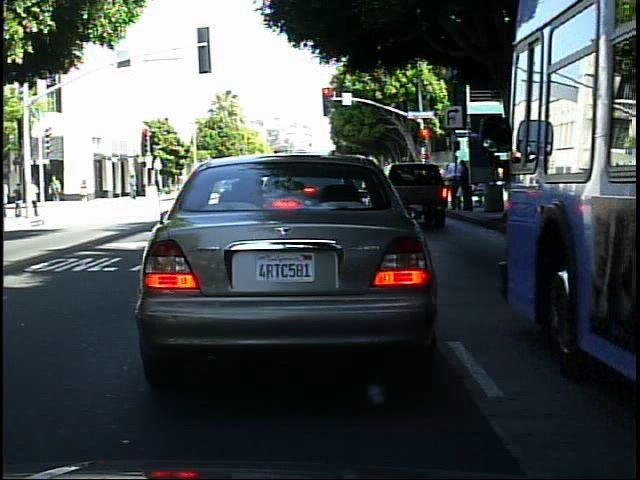person: (48, 170, 67, 203), (11, 179, 26, 220), (76, 175, 94, 207), (30, 172, 43, 216), (126, 170, 141, 202)
